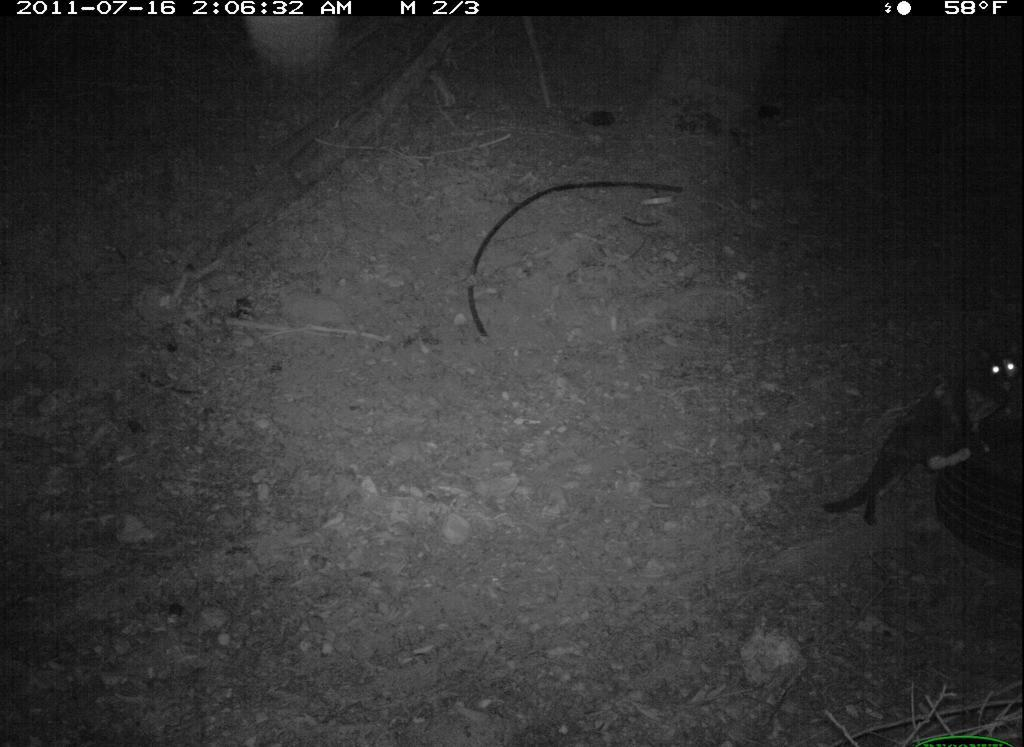cat: (822, 344, 1021, 525)
